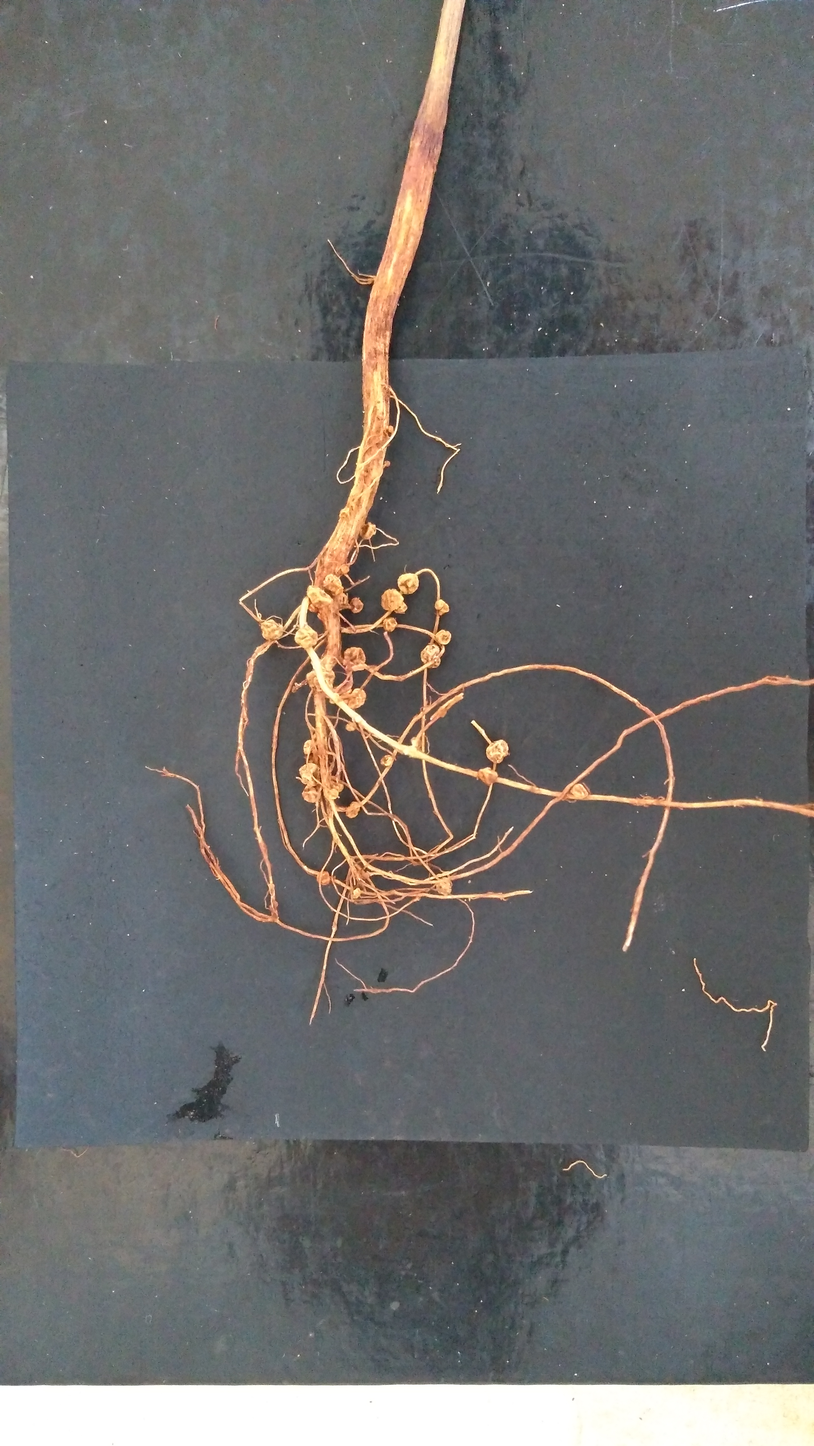nodule: (380, 588, 408, 614), (306, 668, 336, 692), (306, 585, 333, 609), (295, 624, 318, 649), (342, 647, 365, 671), (486, 739, 509, 763), (298, 763, 321, 787), (322, 573, 344, 597), (420, 644, 441, 668), (397, 573, 419, 595), (260, 619, 283, 640), (329, 686, 351, 706), (478, 766, 498, 786), (302, 784, 323, 803), (348, 688, 366, 709), (436, 877, 453, 896), (360, 522, 376, 540), (571, 783, 589, 799), (434, 599, 449, 616), (435, 629, 452, 644), (345, 801, 360, 818), (336, 592, 349, 611), (350, 597, 364, 614), (383, 617, 397, 632), (303, 740, 317, 755), (330, 778, 344, 792), (316, 871, 330, 885), (380, 755, 393, 767), (326, 788, 339, 799), (307, 602, 319, 613), (291, 681, 301, 694), (339, 507, 350, 518), (340, 563, 350, 575), (411, 737, 422, 747), (345, 722, 357, 731), (352, 887, 361, 899), (358, 871, 370, 880), (384, 460, 390, 467), (388, 425, 393, 433)
